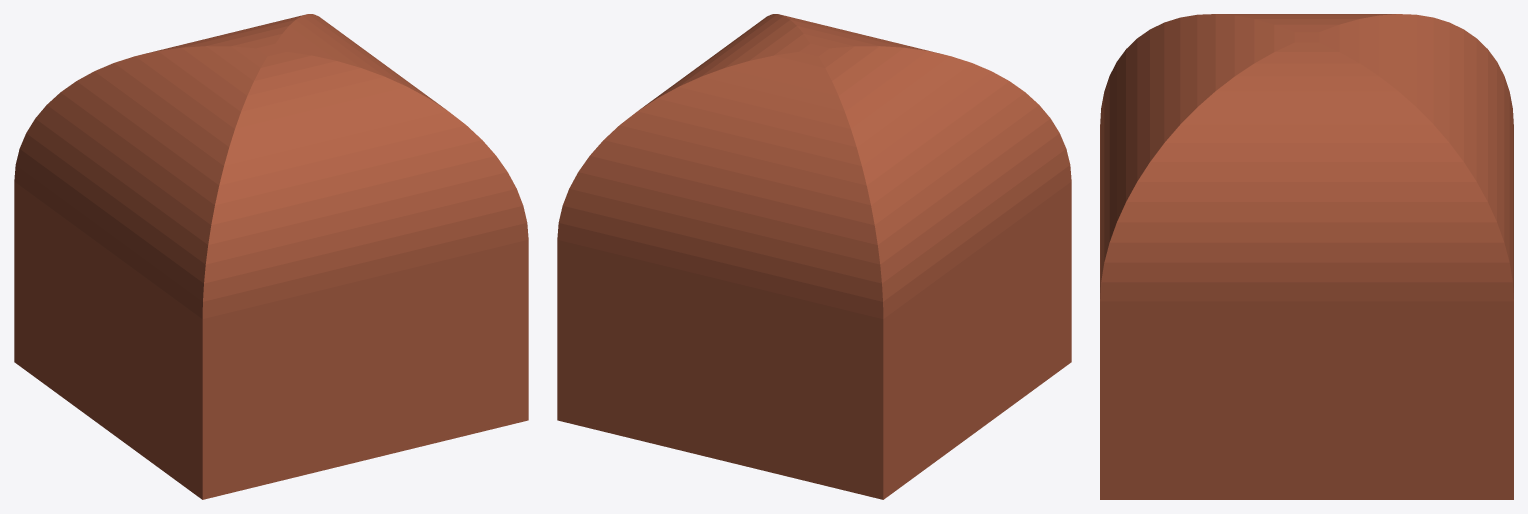
Rendered from singel_block.fbx.
3 views of the same model, side by side, from view 1: azimuth 30°, elevation 25°; view 2: azimuth 150°, elevation 25°; view 3: azimuth 270°, elevation 25° (orthographic). The views are drawn at different scales.
Parts seen in each view (by area): view 1: Cube.001; view 2: Cube.001; view 3: Cube.001.
Boxes of the visible parts, x1=… form: Cube.001: x1=14, y1=14, x2=528, y2=499; Cube.001: x1=557, y1=14, x2=1071, y2=499; Cube.001: x1=1100, y1=14, x2=1513, y2=499.
Bounding box in the file's own units: 100 × 100 × 100.
